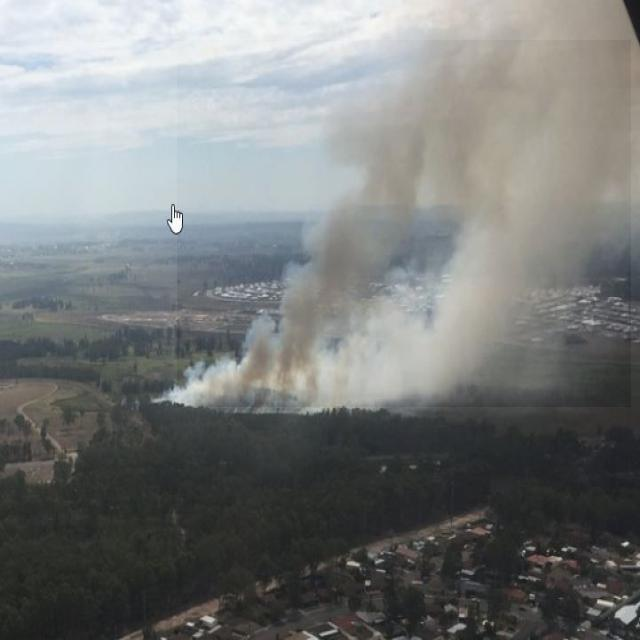Smoke: (177, 40, 631, 407)
